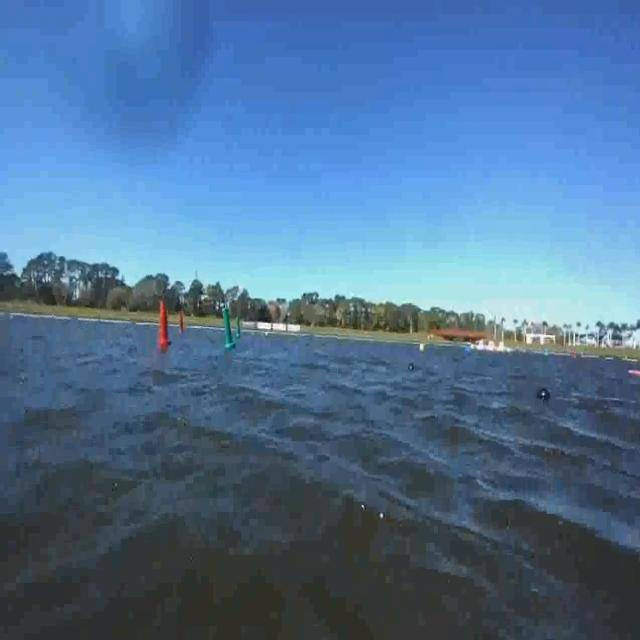blue-buoy: (464, 345, 471, 358)
green-column-buoy: (222, 308, 235, 351)
red-column-buoy: (156, 303, 170, 349), (180, 313, 188, 336)
yellow-buoy: (418, 342, 426, 355)
